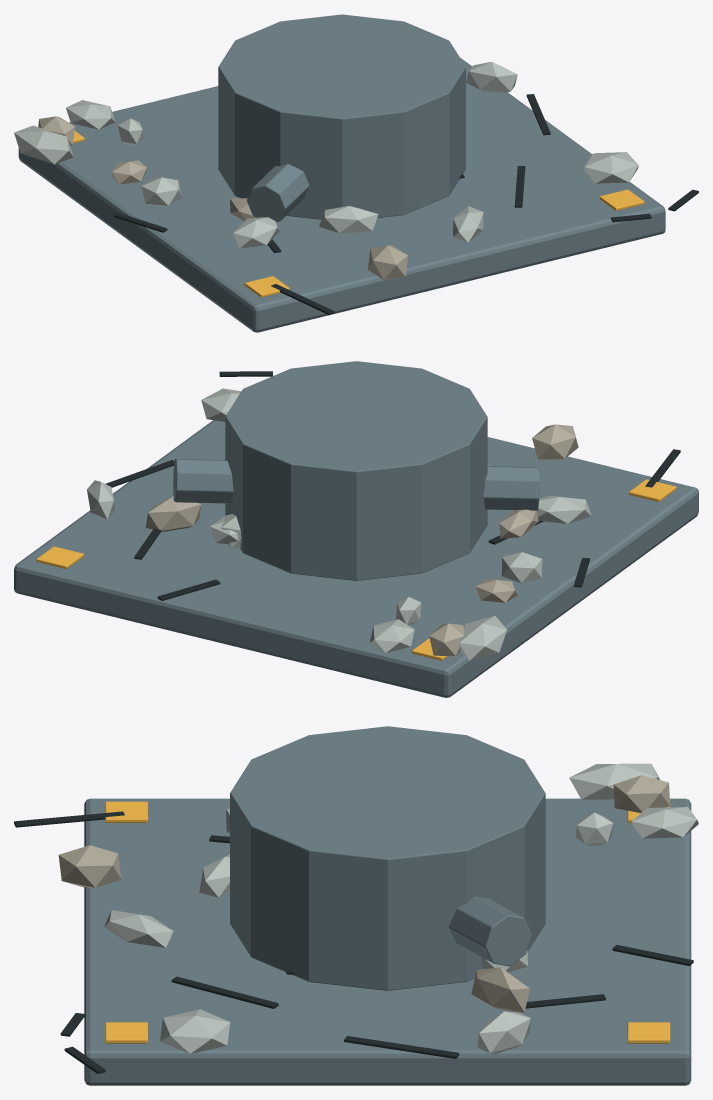
Rendered from command_comms_d3.glb.
The picture shows the model from 3 angles, top to bottom: view 1: azimuth 30°, elevation 25°; view 2: azimuth 150°, elevation 25°; view 3: azimuth 270°, elevation 25°; orthographic projection. The views are drawn at different scales.
Parts seen in each view (by area): view 1: Foundation.023, Azimuth pedestal.003, Fallen mast, Bounded fractured debris.151, Bounded fractured debris.154, Bounded fractured debris.145, Bounded fractured debris.146, Bounded fractured debris.147, Bounded fractured debris.140, Bounded fractured debris.142, Bounded fractured debris.155, Bounded fractured debris.143 (+5 smaller); view 2: Foundation.023, Azimuth pedestal.003, Fallen mast, Bounded fractured debris.151, Bounded fractured debris.153, Bounded fractured debris.147, Bounded fractured debris.140, Bounded fractured debris.142, Bounded fractured debris.155, Bounded fractured debris.144, Bounded fractured debris.138, Bounded fractured debris.154 (+5 smaller); view 3: Foundation.023, Azimuth pedestal.003, Fallen mast, Bounded fractured debris.154, Bounded fractured debris.147, Bounded fractured debris.151, Bounded fractured debris.153, Bounded fractured debris.142, Bounded fractured debris.144, Bounded fractured debris.143, Bounded fractured debris.146, Bounded fractured debris.145 (+9 smaller).
Boxes of the visible parts, bbox=[...] form: Foundation.023: bbox=[18, 58, 665, 332]; Azimuth pedestal.003: bbox=[218, 14, 465, 219]; Fallen mast: bbox=[247, 164, 309, 221]; Bounded fractured debris.151: bbox=[14, 125, 73, 164]; Bounded fractured debris.154: bbox=[583, 152, 638, 183]; Bounded fractured debris.145: bbox=[319, 206, 378, 233]; Bounded fractured debris.146: bbox=[466, 61, 517, 92]; Bounded fractured debris.147: bbox=[368, 245, 407, 279]; Bounded fractured debris.140: bbox=[233, 217, 279, 248]; Bounded fractured debris.142: bbox=[66, 100, 115, 129]; Bounded fractured debris.155: bbox=[141, 177, 182, 206]; Bounded fractured debris.143: bbox=[453, 206, 483, 242]; Foundation.023: bbox=[14, 420, 698, 697]; Azimuth pedestal.003: bbox=[225, 361, 487, 580]; Fallen mast: bbox=[173, 459, 539, 510]; Bounded fractured debris.151: bbox=[458, 616, 506, 660]; Bounded fractured debris.153: bbox=[145, 496, 201, 531]; Bounded fractured debris.147: bbox=[532, 424, 578, 459]; Bounded fractured debris.140: bbox=[537, 495, 591, 523]; Bounded fractured debris.142: bbox=[369, 619, 414, 652]; Bounded fractured debris.155: bbox=[501, 552, 542, 583]; Bounded fractured debris.144: bbox=[429, 623, 464, 656]; Bounded fractured debris.138: bbox=[499, 509, 538, 538]; Bounded fractured debris.154: bbox=[201, 388, 241, 421]; Foundation.023: bbox=[84, 798, 691, 1085]; Azimuth pedestal.003: bbox=[230, 726, 545, 990]; Fallen mast: bbox=[449, 896, 531, 966]; Bounded fractured debris.154: bbox=[160, 1009, 230, 1053]; Bounded fractured debris.147: bbox=[58, 845, 121, 887]; Bounded fractured debris.151: bbox=[569, 763, 660, 799]; Bounded fractured debris.153: bbox=[471, 967, 529, 1012]; Bounded fractured debris.142: bbox=[631, 806, 698, 838]; Bounded fractured debris.144: bbox=[613, 775, 669, 812]; Bounded fractured debris.143: bbox=[104, 910, 173, 947]; Bounded fractured debris.146: bbox=[477, 1011, 530, 1053]; Bounded fractured debris.145: bbox=[199, 854, 229, 897].
Size of the model in its own units: 5.71 by 1.52 by 5.64.
